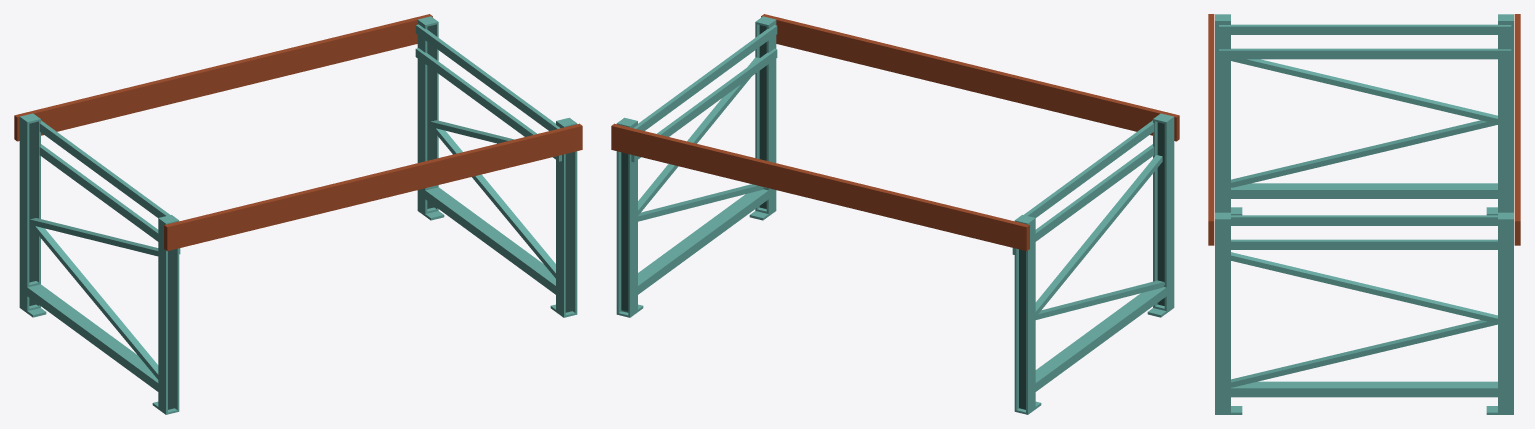
File: Scaffolding.glb
3 views of the same model, side by side, from view 1: azimuth 30°, elevation 25°; view 2: azimuth 150°, elevation 25°; view 3: azimuth 270°, elevation 25° (orthographic). The views are drawn at different scales.
Parts seen in each view (by area): view 1: Scaffolding; view 2: Scaffolding; view 3: Scaffolding.
Part boxes in pixels (bbox=[...]): Scaffolding: bbox=[14, 14, 582, 414]; Scaffolding: bbox=[611, 14, 1179, 414]; Scaffolding: bbox=[1208, 14, 1520, 414].
Size of the model in its own units: 5.78 by 2.54 by 3.68.
1 material, 1 textured.
